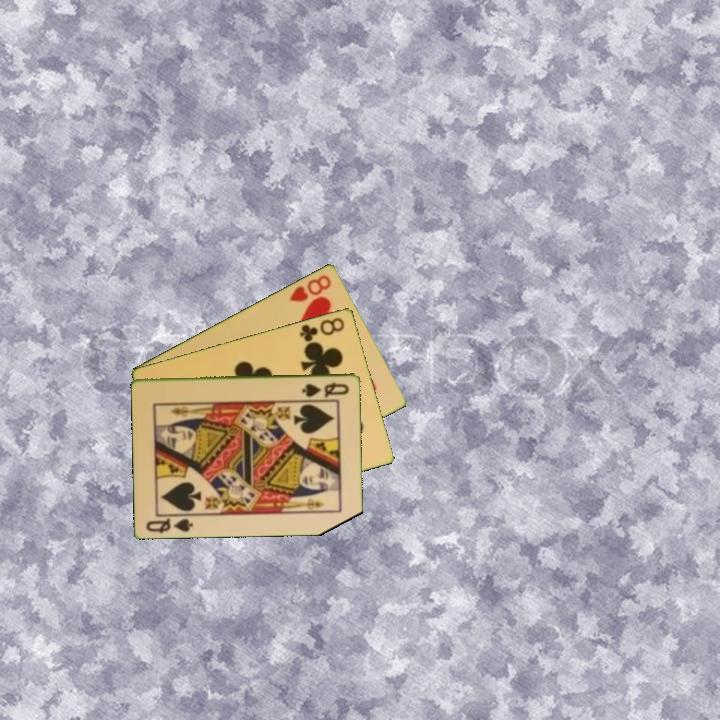8c: (296, 313, 348, 344)
8h: (286, 271, 334, 305)
Qs: (143, 512, 196, 536), (299, 379, 352, 399)
